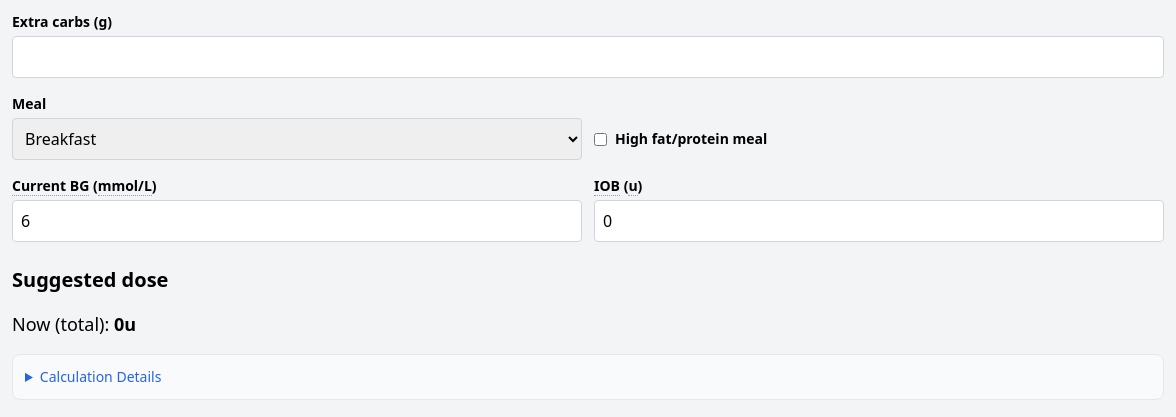
Test: DoseRecommendation › allows IOB input
Type "2.5" into the number field below "IOB".
click(879, 221); type("2.5")  # box [594,200,1164,242]
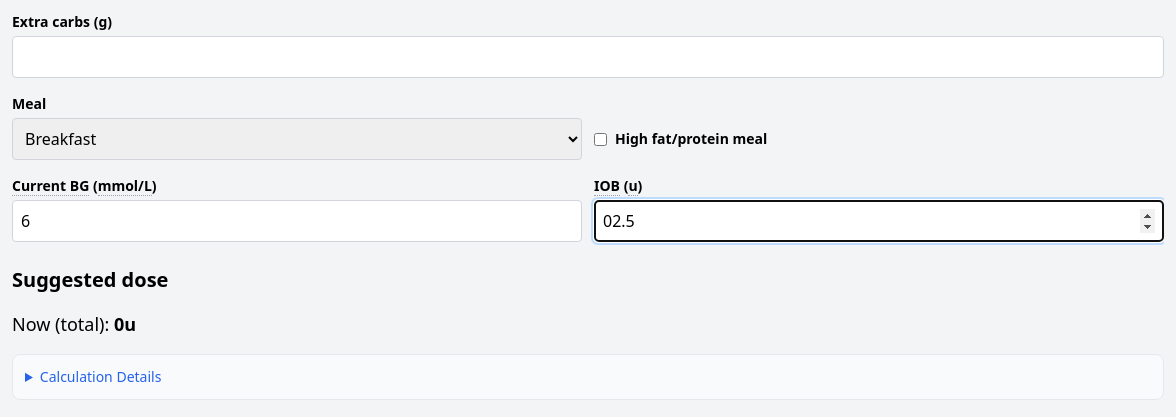
Check: the number field below "IOB" holds "2.5", box [594,200,1164,242]
